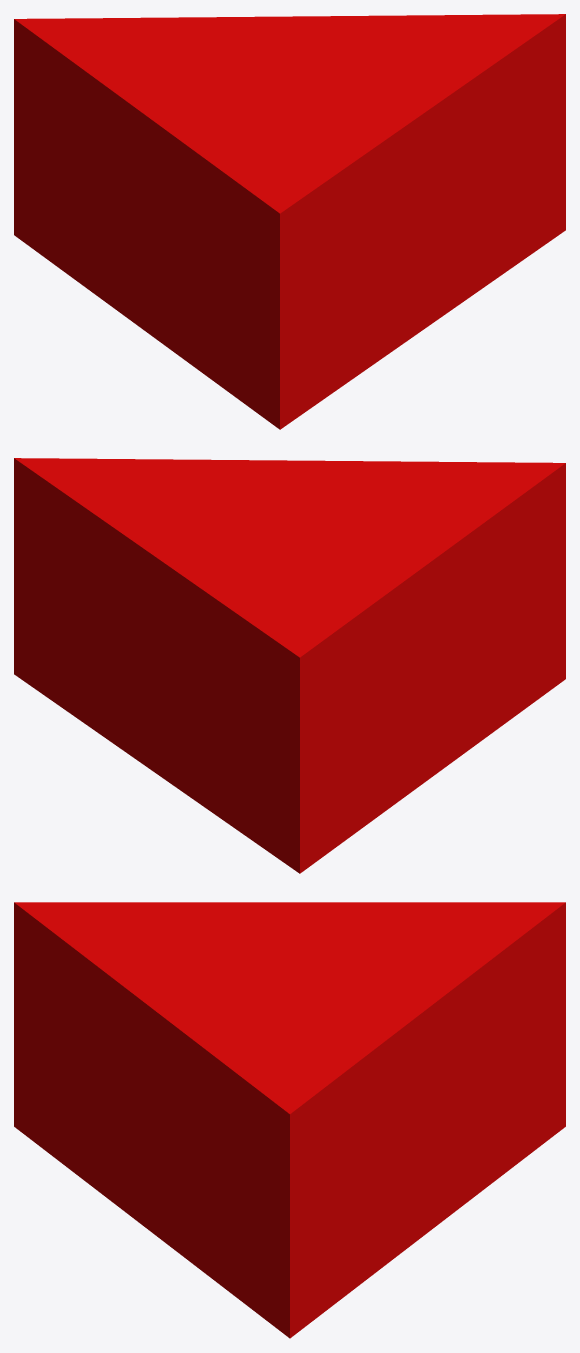
3 views of the same model, one above another, from view 1: azimuth 30°, elevation 25°; view 2: azimuth 150°, elevation 25°; view 3: azimuth 270°, elevation 25° (orthographic). The views are drawn at different scales.
Visible parts, largest first — view 1: Cube.010_Cube.003; view 2: Cube.010_Cube.003; view 3: Cube.010_Cube.003.
Boxes of the visible parts, left/top/right/bottom form: Cube.010_Cube.003: left=14, top=14, right=565, bottom=429; Cube.010_Cube.003: left=14, top=458, right=565, bottom=873; Cube.010_Cube.003: left=14, top=902, right=565, bottom=1338.
Bounding box in the file's own units: 0.36 × 0.1775 × 0.396.
